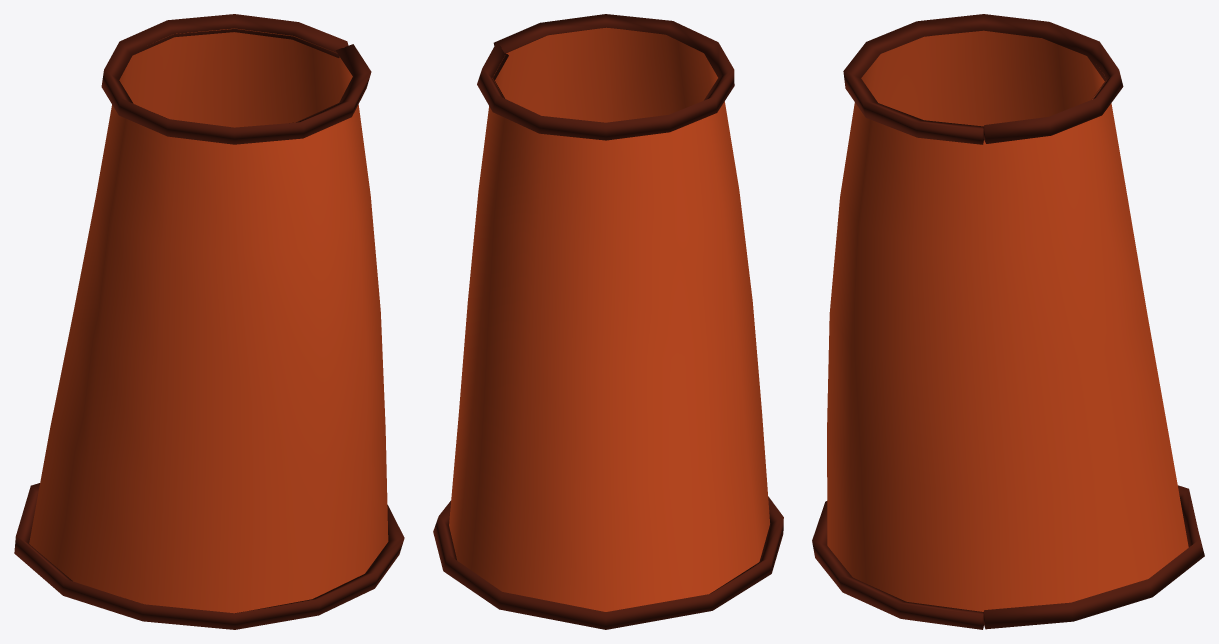
The model's file is hellstone_armor_cuisse.R.glb.
The picture shows the model from 3 angles, left to right: view 1: azimuth 30°, elevation 25°; view 2: azimuth 150°, elevation 25°; view 3: azimuth 270°, elevation 25°; orthographic projection. The views are drawn at different scales.
Visible parts, largest first — view 1: hellstone_armor_cuisse.R; view 2: hellstone_armor_cuisse.R; view 3: hellstone_armor_cuisse.R.
Part boxes in pixels (x1,y1,x2,y2): hellstone_armor_cuisse.R: (14, 14, 404, 629); hellstone_armor_cuisse.R: (433, 14, 783, 629); hellstone_armor_cuisse.R: (812, 14, 1204, 629).
Bounding box in the file's own units: 0.2685 × 0.3856 × 0.2809.
